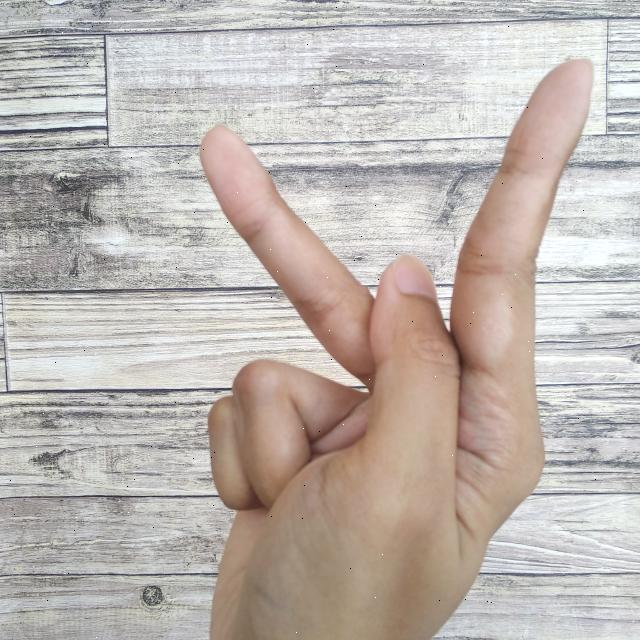K: (190, 57, 595, 640)
